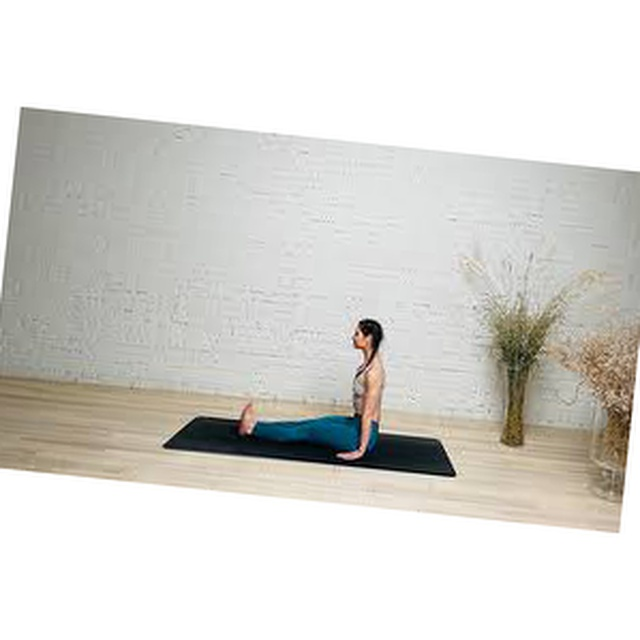Staff_Pose: (239, 317, 386, 462)
